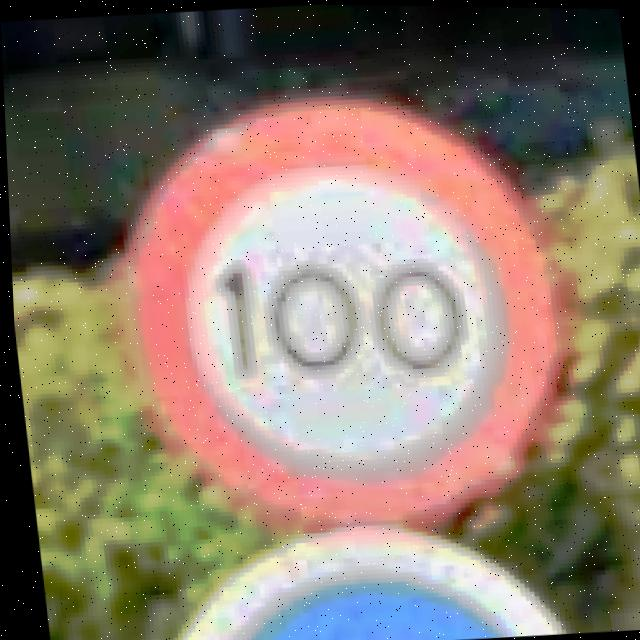max100: (87, 68, 590, 547)
